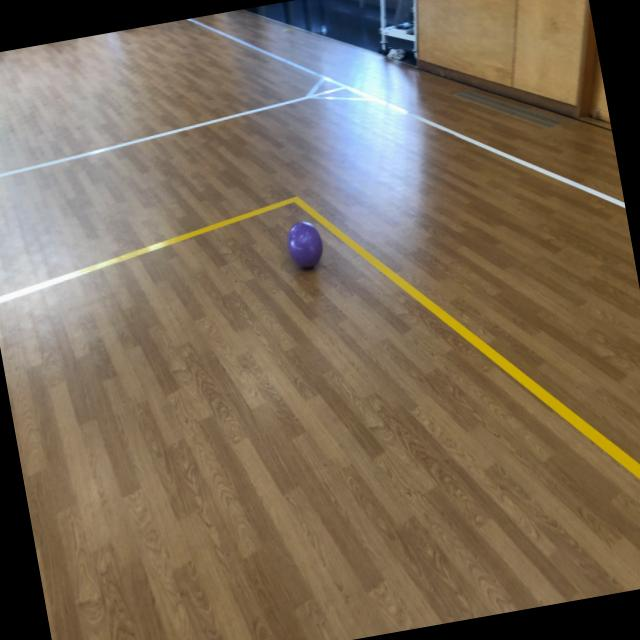purple_ball: (284, 217, 325, 270)
